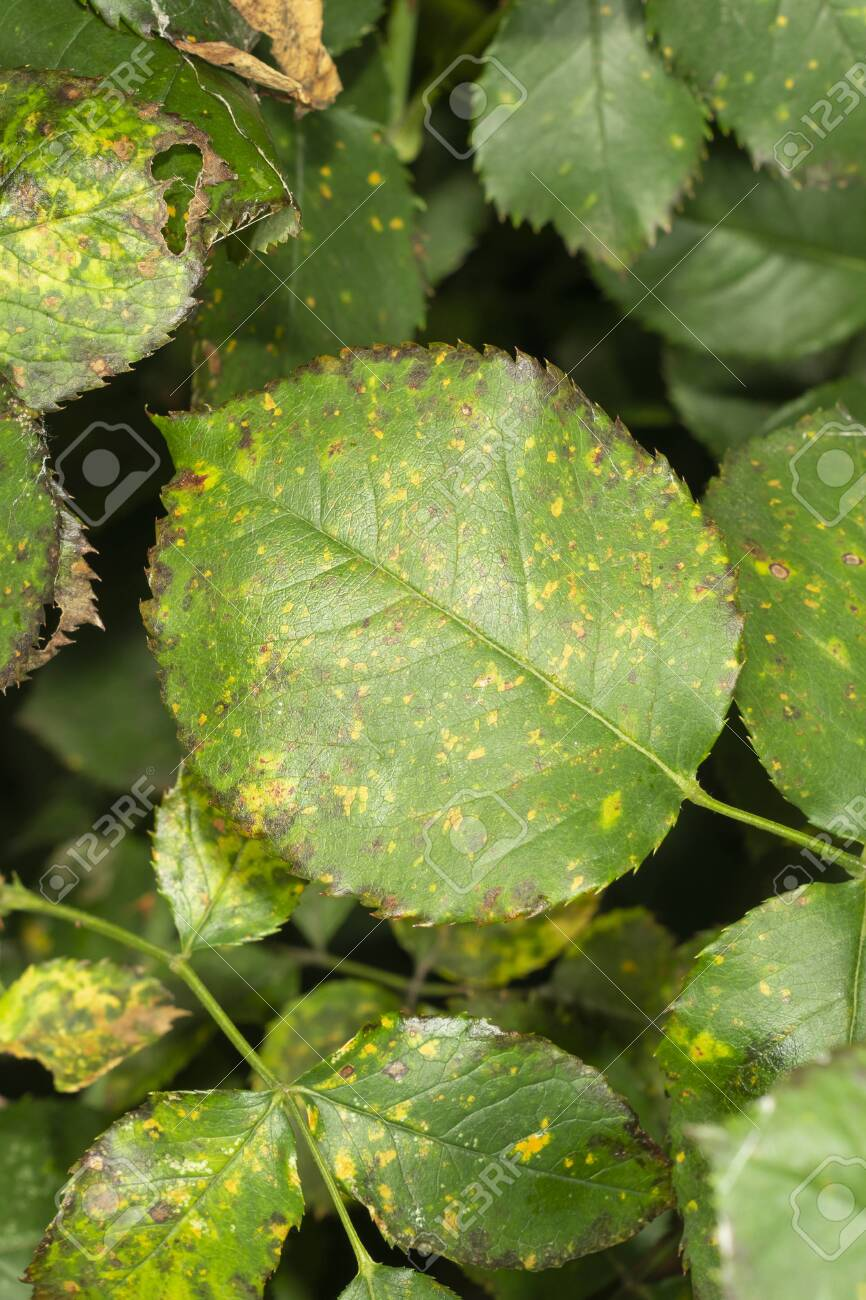unhealthy: (167, 361, 719, 903), (278, 1027, 682, 1283), (34, 1070, 258, 1279)
